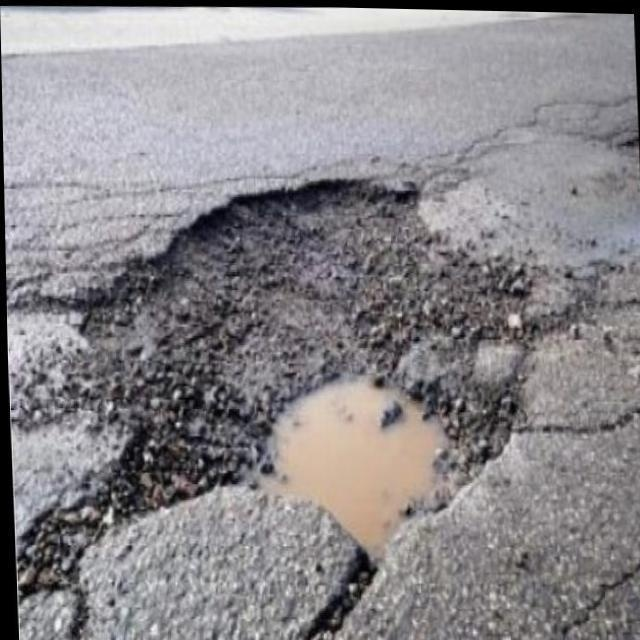pothole: (115, 170, 526, 560)
